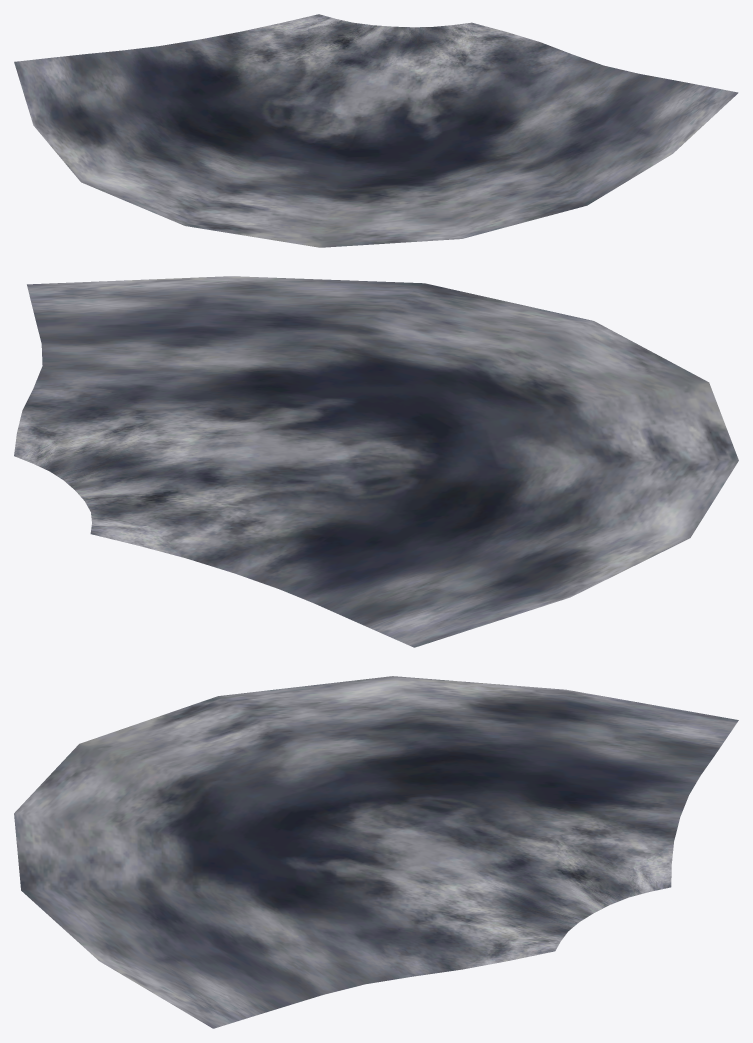
Rendered from CB_NEWPLAYSURFACE_CB_WATERFALLS04.fbx.
3 renders of one model, top to bottom at view 1: azimuth 30°, elevation 25°; view 2: azimuth 150°, elevation 25°; view 3: azimuth 270°, elevation 25°, orthographic. The views are drawn at different scales.
Parts seen in each view (by area): view 1: CB_NEWPLAYSURFACE_CB_WATERFALLS04; view 2: CB_NEWPLAYSURFACE_CB_WATERFALLS04; view 3: CB_NEWPLAYSURFACE_CB_WATERFALLS04.
Part boxes in pixels (box(x1,y1,x2,y2)): CB_NEWPLAYSURFACE_CB_WATERFALLS04: box(14, 14, 738, 247); CB_NEWPLAYSURFACE_CB_WATERFALLS04: box(14, 276, 738, 647); CB_NEWPLAYSURFACE_CB_WATERFALLS04: box(14, 676, 738, 1028).
Bounding box in the file's own units: 167379 × 1594 × 145348.
Materials: 1 (1 with a texture image).
